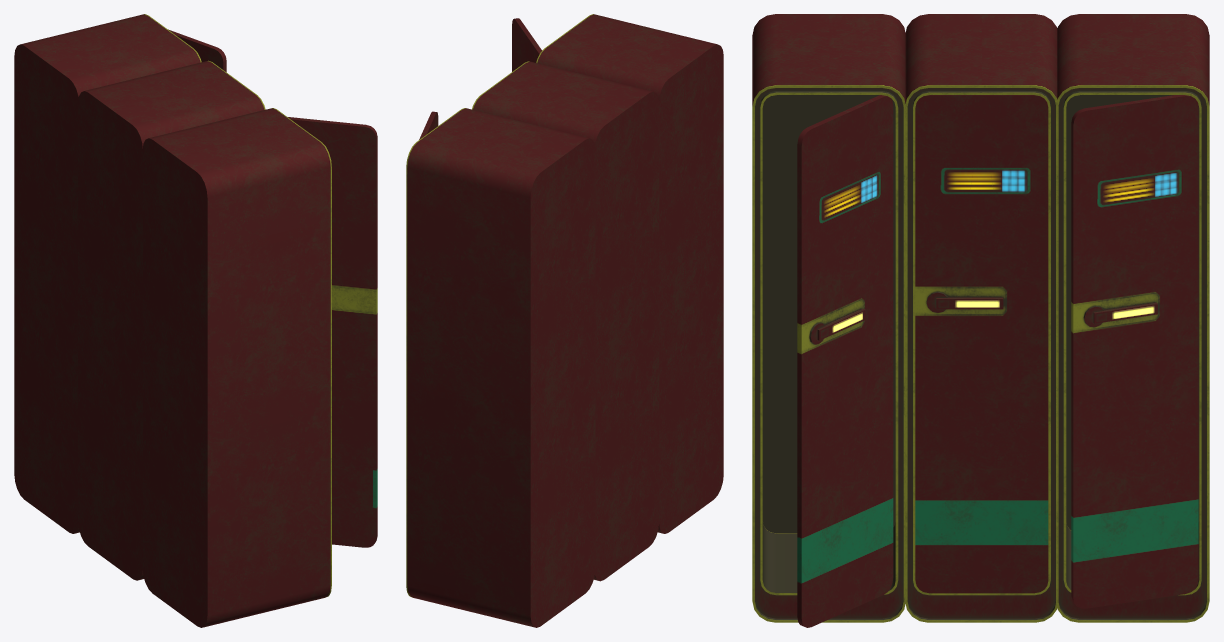
File: locker.glb
3 views of the same model, side by side, from view 1: azimuth 30°, elevation 25°; view 2: azimuth 150°, elevation 25°; view 3: azimuth 270°, elevation 25° (orthographic). The views are drawn at different scales.
Visible parts, largest first — view 1: locker_low.002, locker_low, locker_low.001, door_low.002, door_low.001; view 2: locker_low.001, locker_low.002, locker_low, door_low.002; view 3: door_low, door_low.001, door_low.002, locker_low.002, locker_low.001, locker_low.
Part boxes in pixels (x1=…): locker_low.002: x1=142, y1=108, x2=331, y2=627; locker_low: x1=78, y1=60, x2=265, y2=580; locker_low.001: x1=14, y1=14, x2=201, y2=533; door_low.002: x1=288, y1=117, x2=377, y2=547; door_low.001: x1=168, y1=29, x2=226, y2=72; locker_low.001: x1=406, y1=108, x2=595, y2=627; locker_low.002: x1=536, y1=14, x2=723, y2=533; locker_low: x1=472, y1=61, x2=659, y2=581; door_low.002: x1=512, y1=18, x2=542, y2=71; door_low: x1=915, y1=95, x2=1048, y2=593; door_low.001: x1=1071, y1=95, x2=1198, y2=608; door_low.002: x1=797, y1=95, x2=893, y2=627; locker_low.002: x1=752, y1=14, x2=905, y2=622; locker_low.001: x1=1056, y1=14, x2=1209, y2=622; locker_low: x1=905, y1=14, x2=1058, y2=622.
Size of the model in its own units: 76.08 by 173 by 133.
1 material, 1 textured.
